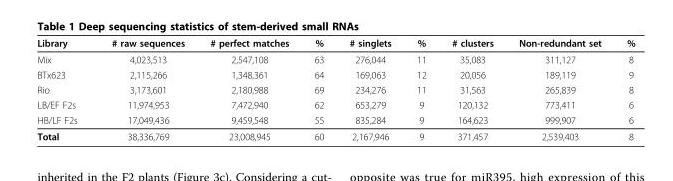table: (36, 36, 634, 141)
table column: (505, 36, 613, 141), (196, 36, 301, 141), (93, 36, 196, 141), (336, 36, 403, 141), (438, 36, 505, 141), (36, 36, 93, 141), (301, 36, 336, 141), (403, 36, 438, 141), (613, 36, 634, 141)
table column header: (36, 36, 634, 50)
table row: (36, 50, 634, 66), (36, 96, 634, 112), (36, 66, 634, 81), (36, 81, 634, 96), (36, 112, 634, 127), (36, 36, 634, 50), (36, 127, 634, 141)
